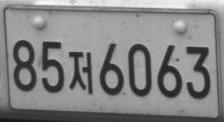0: (127, 43, 152, 97)
3: (186, 46, 211, 99)
5: (41, 40, 65, 94)
6: (156, 44, 183, 98), (98, 42, 124, 95)
8: (12, 38, 38, 92)
저: (67, 50, 93, 94)
